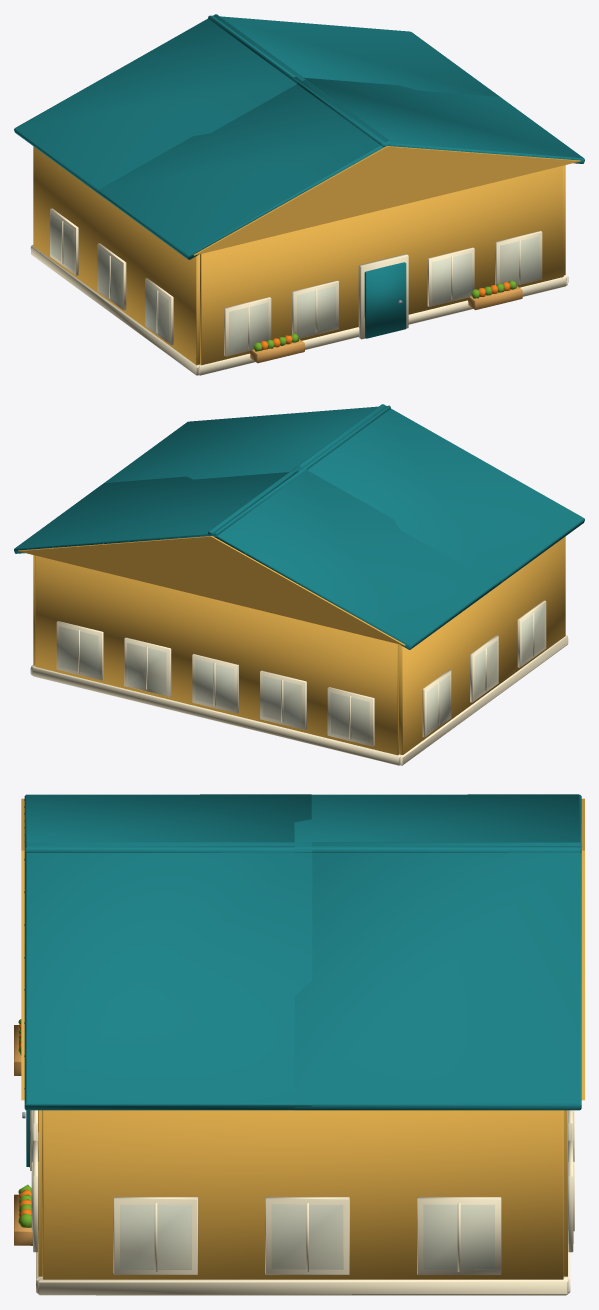
File: project_3-low.glb
3 renders of one model, top to bottom at view 1: azimuth 30°, elevation 25°; view 2: azimuth 150°, elevation 25°; view 3: azimuth 270°, elevation 25°, orthographic. The views are drawn at different scales.
Parts seen in each view (by area): view 1: roof half.006, roof half.004, wall.005, wall.006, painted gable.003, foundation trim.005, foundation trim.006, blue window.021, door.002, blue window.026, door frame.001, planter.002 (+1 smaller); view 2: roof half.004, roof half.006, wall.004, foundation trim.004, wall.006, painted gable.002, blue window.016, foundation trim.006, blue window.026; view 3: roof half.006, roof half.004, wall.007, foundation trim.007, blue window.029, painted gable.003, painted gable.002, foundation trim.005, foundation trim.004, wall.004, wall.005.
Boxes of the visible parts, left/top/right/bottom form: roof half.006: left=98, top=76, right=584, bottom=259; roof half.004: left=14, top=14, right=499, bottom=197; wall.005: left=200, top=166, right=563, bottom=365; wall.006: left=33, top=146, right=199, bottom=365; painted gable.003: left=193, top=146, right=580, bottom=255; foundation trim.005: left=198, top=231, right=566, bottom=375; foundation trim.006: left=30, top=208, right=199, bottom=375; blue window.021: left=229, top=237, right=538, bottom=352; door.002: left=364, top=262, right=406, bottom=338; blue window.026: left=51, top=214, right=168, bottom=339; door frame.001: left=358, top=254, right=408, bottom=339; planter.002: left=249, top=339, right=304, bottom=363; roof half.004: left=14, top=465, right=500, bottom=649; roof half.006: left=104, top=404, right=584, bottom=587; wall.004: left=35, top=555, right=399, bottom=755; foundation trim.004: left=32, top=621, right=400, bottom=765; wall.006: left=399, top=536, right=565, bottom=754; painted gable.002: left=18, top=536, right=405, bottom=645; blue window.016: left=60, top=627, right=369, bottom=742; foundation trim.006: left=400, top=600, right=568, bottom=765; blue window.026: left=427, top=606, right=544, bottom=732; roof half.006: left=24, top=794, right=312, bottom=1110; roof half.004: left=294, top=794, right=581, bottom=1110; wall.007: left=42, top=1110, right=563, bottom=1279; foundation trim.007: left=38, top=1197, right=568, bottom=1295; blue window.029: left=120, top=1205, right=494, bottom=1269; painted gable.003: left=21, top=798, right=24, bottom=1100; painted gable.002: left=581, top=798, right=584, bottom=1100; foundation trim.005: left=31, top=1110, right=42, bottom=1293; foundation trim.004: left=563, top=1110, right=574, bottom=1293; wall.004: left=563, top=1110, right=567, bottom=1276; wall.005: left=38, top=1110, right=42, bottom=1276.
Size of the model in its own units: 16.44 by 7.63 by 12.8.
